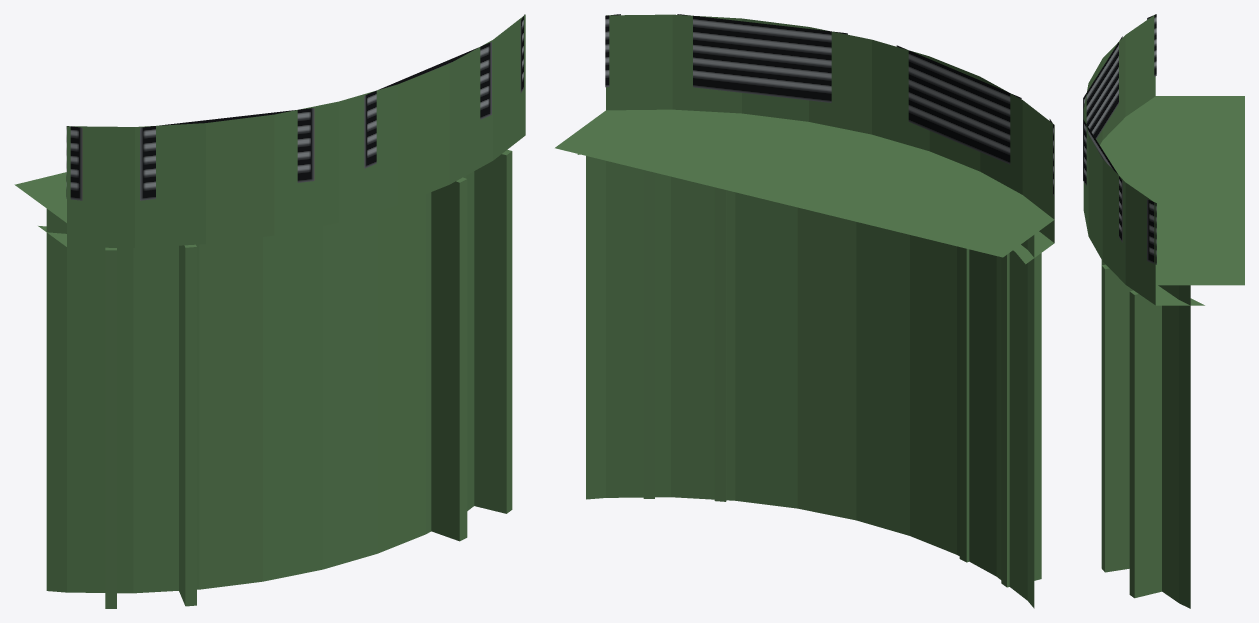
Rendered from cell_57.obj.
3 views of the same model, side by side, from view 1: azimuth 30°, elevation 25°; view 2: azimuth 150°, elevation 25°; view 3: azimuth 270°, elevation 25° (orthographic). The views are drawn at different scales.
Size of the model in its own units: 1 by 1 by 0.3617.
